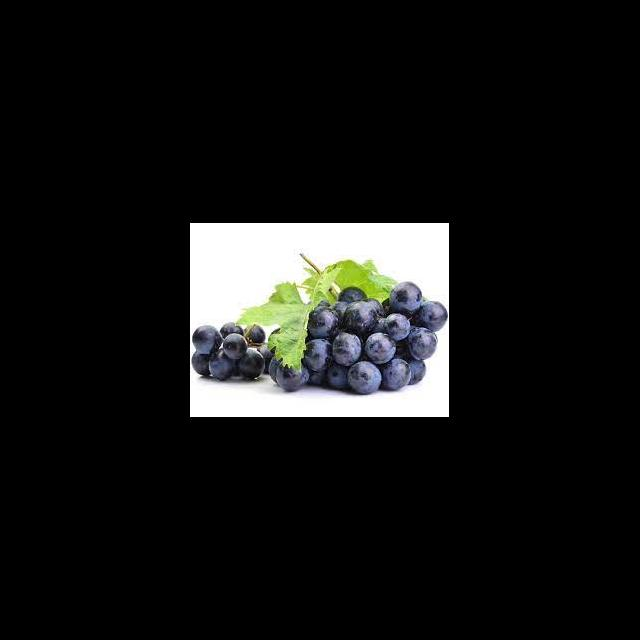grape: (192, 321, 272, 381)
